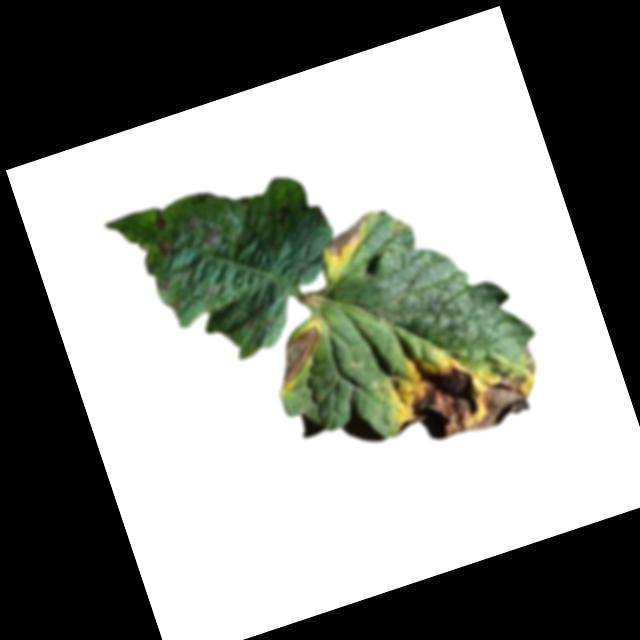Early_blight: (375, 323, 541, 458), (263, 320, 339, 390), (313, 212, 380, 263), (196, 220, 226, 249), (150, 228, 178, 256), (149, 205, 168, 231), (153, 274, 175, 293)
